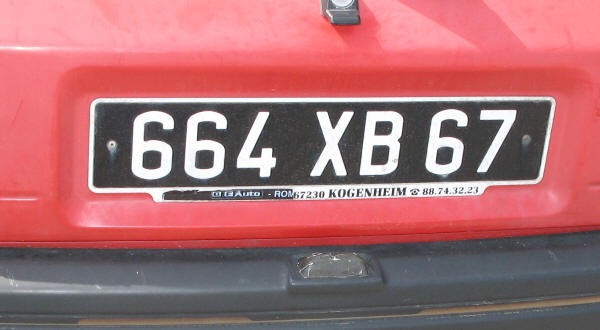license_plate: (88, 96, 556, 189)
